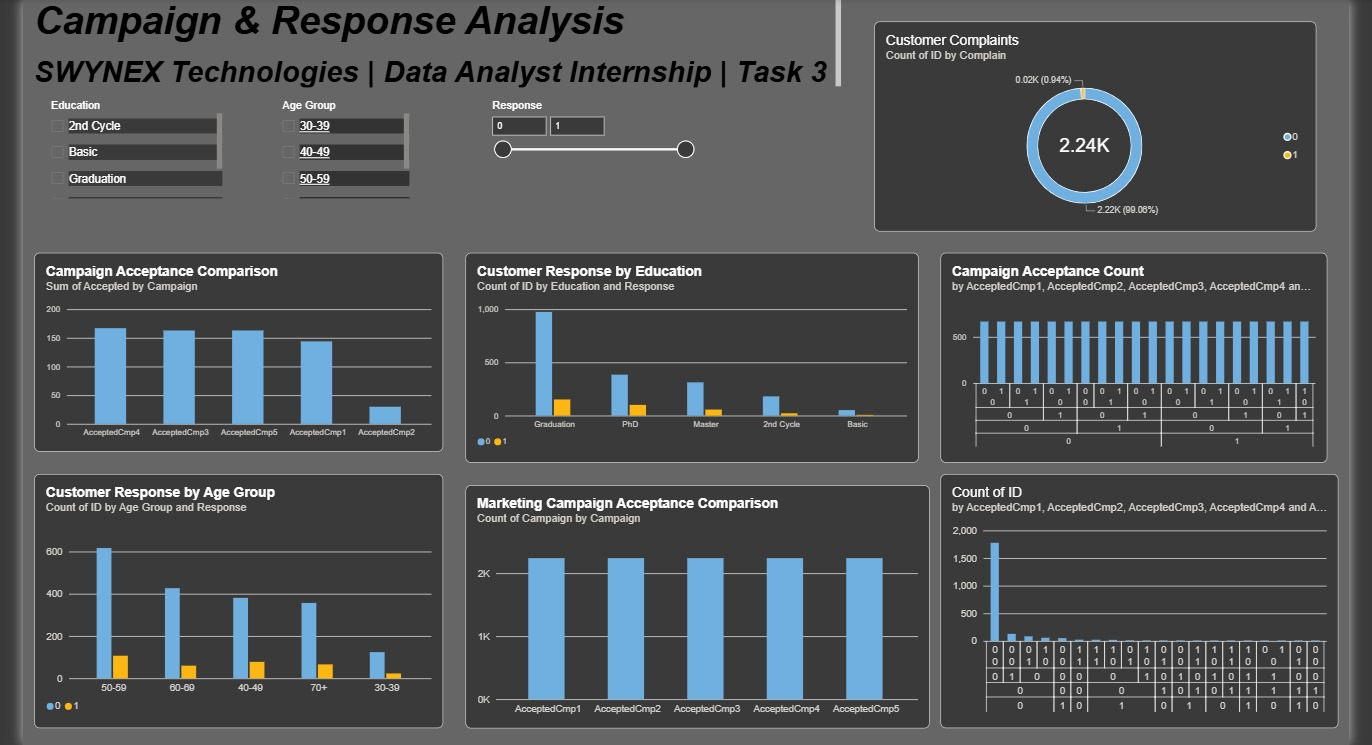

Layout of this report page (visuals, bound fields, positions):
{"tool":"powerbi","page":{"name":"Campaign & Response Analysis","canvas":[1920,1080],"ordinal":2},"visuals":[{"type":"textbox","box":[16,0,1184,128],"z":0},{"type":"clusteredColumnChart","title":"Campaign Acceptance Comparison","fields":{"Category":["cleaned_marketing_campaign (2).Campaign"],"Y":["Sum(cleaned_marketing_campaign (2).Accepted)"]},"box":[16,368,592,288],"z":1000},{"type":"clusteredColumnChart","title":"Customer Response by Education","fields":{"Category":["cleaned_marketing_campaign (2).Education"],"Y":["Count(cleaned_marketing_campaign (2).ID)"],"Series":["cleaned_marketing_campaign (2).Response"]},"box":[640,368,656,304],"z":2000},{"type":"clusteredColumnChart","title":"Customer Response by Age Group","fields":{"Category":["cleaned_marketing_campaign.Age Group"],"Y":["CountNonNull(cleaned_marketing_campaign.ID)"],"Series":["cleaned_marketing_campaign.Response"]},"box":[16,688,592,368],"z":3000},{"type":"donutChart","title":"Customer Complaints","fields":{"Category":["cleaned_marketing_campaign.Complain"],"Y":["CountNonNull(cleaned_marketing_campaign.ID)"]},"box":[1232,32,640,304],"z":4000},{"type":"clusteredColumnChart","fields":{"Category":["Campaign_Acceptance.AcceptedCmp1","Campaign_Acceptance.AcceptedCmp2","Campaign_Acceptance.AcceptedCmp3","Campaign_Acceptance.AcceptedCmp4","Campaign_Acceptance.AcceptedCmp5"],"Y":["Campaign_Acceptance.Campaign Acceptance Count"]},"box":[1328,368,560,304],"z":5000},{"type":"clusteredColumnChart","fields":{"Y":["Count(Campaign_Acceptance.ID)"],"Category":["Campaign_Acceptance.AcceptedCmp1","Campaign_Acceptance.AcceptedCmp2","Campaign_Acceptance.AcceptedCmp3","Campaign_Acceptance.AcceptedCmp4","Campaign_Acceptance.AcceptedCmp5"]},"box":[1344,680,560,400],"z":6000},{"type":"clusteredColumnChart","title":"Marketing Campaign Acceptance Comparison","fields":{"Category":["cleaned_marketing_campaign (2).Campaign"],"Y":["CountNonNull(cleaned_marketing_campaign (2).Campaign)"]},"box":[640,704,672,352],"z":7000},{"type":"slicer","fields":{"Values":["cleaned_marketing_campaign (2).Education"]},"box":[32,144,256,144],"z":8000},{"type":"slicer","fields":{"Values":["cleaned_marketing_campaign.Age Group"]},"box":[368,144,192,144],"z":9000},{"type":"slicer","fields":{"Values":["cleaned_marketing_campaign.Response"]},"box":[672,144,304,144],"z":10000}]}

Visuals, with their boxes on the page's 1920x1080 design canvas (x1, y1, x2, y2). These are canvas units, not pixel positions in the 1372x745 screenshot, which may show the page scaled, cropped or inside an application window:
textbox: [left=16, top=0, right=1200, bottom=128]
"Campaign Acceptance Comparison" clusteredColumnChart: [left=16, top=368, right=608, bottom=656]
"Customer Response by Education" clusteredColumnChart: [left=640, top=368, right=1296, bottom=672]
"Customer Response by Age Group" clusteredColumnChart: [left=16, top=688, right=608, bottom=1056]
"Customer Complaints" donutChart: [left=1232, top=32, right=1872, bottom=336]
clusteredColumnChart - Campaign_Acceptance.AcceptedCmp1 x Campaign_Acceptance.AcceptedCmp2: [left=1328, top=368, right=1888, bottom=672]
clusteredColumnChart - Count(Campaign_Acceptance.ID) x Campaign_Acceptance.AcceptedCmp1: [left=1344, top=680, right=1904, bottom=1080]
"Marketing Campaign Acceptance Comparison" clusteredColumnChart: [left=640, top=704, right=1312, bottom=1056]
slicer - cleaned_marketing_campaign (2).Education: [left=32, top=144, right=288, bottom=288]
slicer - cleaned_marketing_campaign.Age Group: [left=368, top=144, right=560, bottom=288]
slicer - cleaned_marketing_campaign.Response: [left=672, top=144, right=976, bottom=288]
